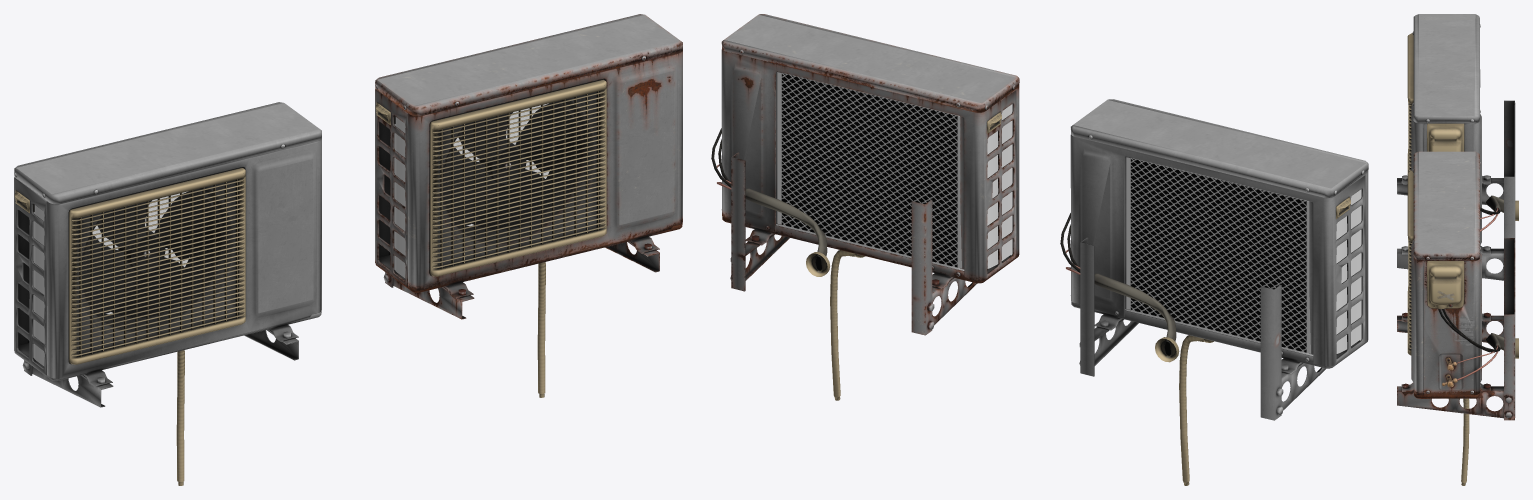
Rendered from PG_ExteriorHVAC.fbx.
3 views of the same model, side by side, from view 1: azimuth 30°, elevation 25°; view 2: azimuth 150°, elevation 25°; view 3: azimuth 270°, elevation 25° (orthographic). The views are drawn at different scales.
Parts seen in each view (by area): view 1: exterior_aircon_unit, exterior_aircon_unit_rusted; view 2: exterior_aircon_unit_rusted, exterior_aircon_unit; view 3: exterior_aircon_unit_rusted, exterior_aircon_unit.
Boxes of the visible parts, left/top/right/bottom form: exterior_aircon_unit: left=14, top=102, right=321, bottom=485; exterior_aircon_unit_rusted: left=375, top=14, right=682, bottom=397; exterior_aircon_unit_rusted: left=711, top=14, right=1019, bottom=400; exterior_aircon_unit: left=1060, top=99, right=1368, bottom=485; exterior_aircon_unit_rusted: left=1397, top=151, right=1518, bottom=485; exterior_aircon_unit: left=1397, top=14, right=1518, bottom=280.
Size of the model in its own units: 1.8 by 0.928 by 0.3742.
4 materials, 4 textured.
